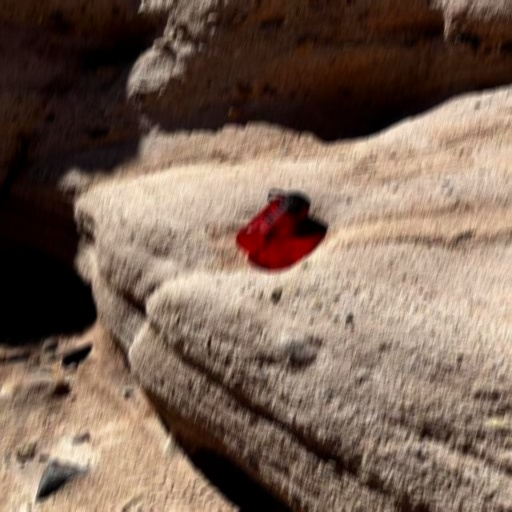bottle: (236, 191, 310, 258)
